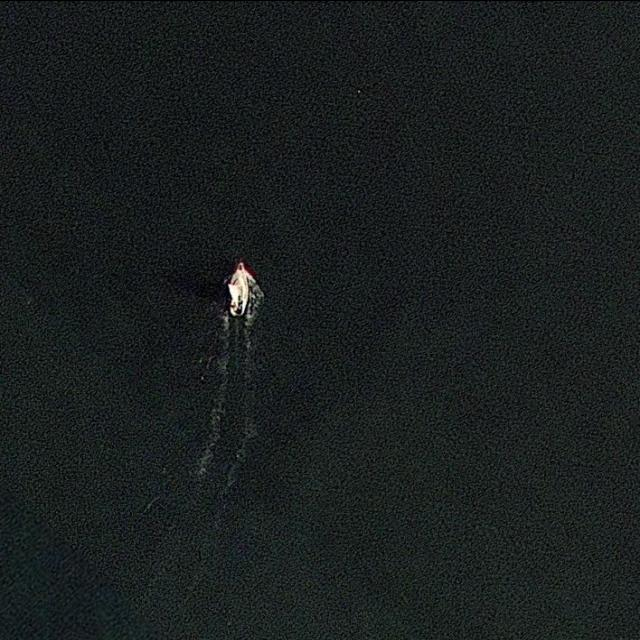ship: (224, 262, 251, 318)
